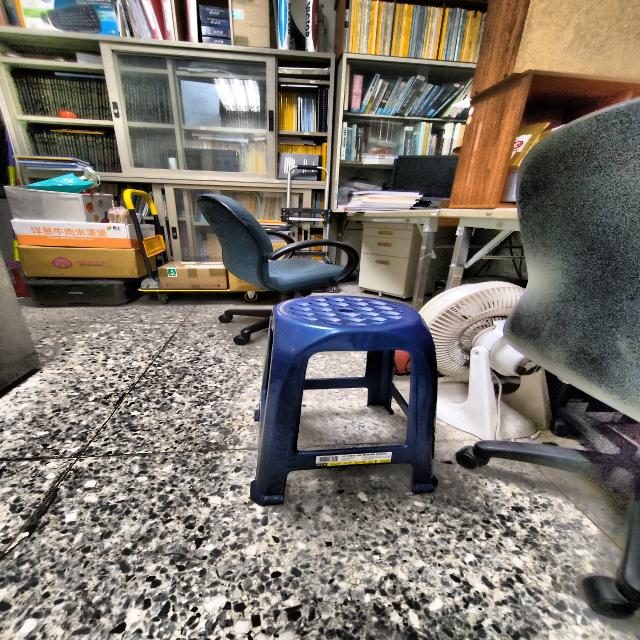cadeira: (453, 92, 640, 621), (247, 288, 444, 511), (197, 188, 364, 339)
